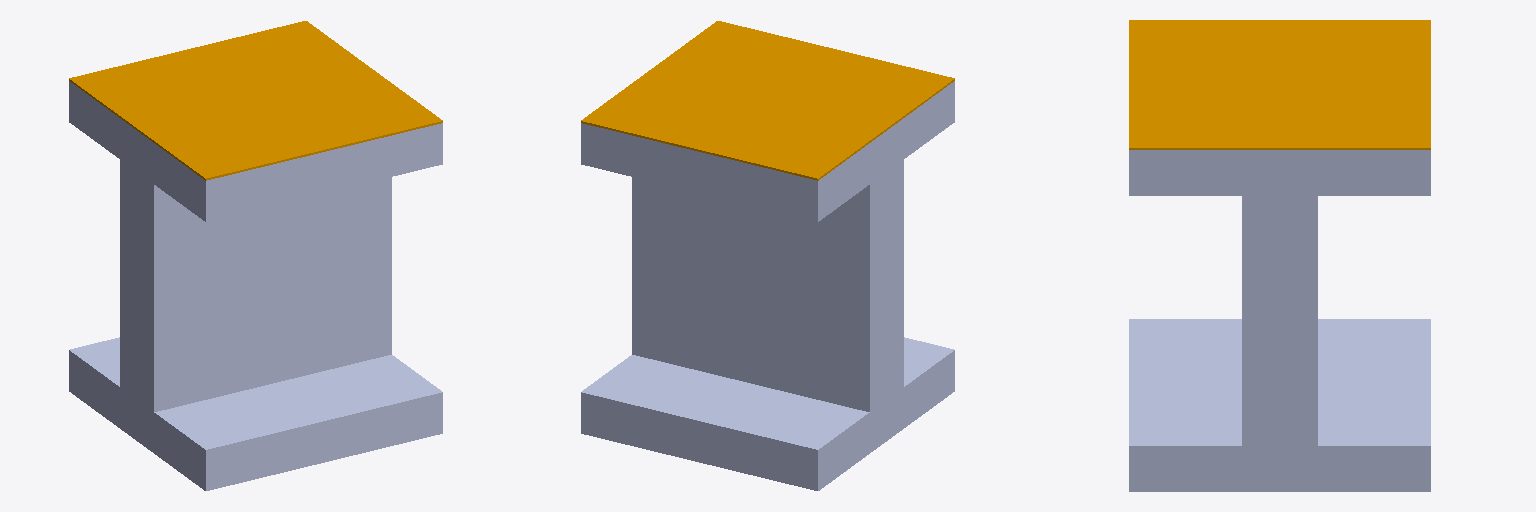
The robot description file, URDF, robot "cube_id_11":
<?xml version="1.0" encoding="utf-8"?>
<!-- This URDF was automatically created by SolidWorks to URDF Exporter! Originally created by Stephen Brawner (brawner@gmail.com) 
     Commit Version: 1.6.0-4-g7f85cfe  Build Version: 1.6.7995.38578
     For more information, please see http://wiki.ros.org/sw_urdf_exporter -->
<robot
  name="cube_id_11">
  <link
    name="marker_id_11">
    <inertial>
      <origin
        xyz="-5.2042E-18 0 -0.0005"
        rpy="0 0 0" />
      <mass
        value="0.0144" />
      <inertia
        ixx="1.7281E-05"
        ixy="9.035E-22"
        ixz="3.1546E-36"
        iyy="1.7281E-05"
        iyz="-6.0329E-20"
        izz="3.456E-05" />
    </inertial>
    <visual>
      <origin
        xyz="0 0 0"
        rpy="0 0 0" />
      <geometry>
        <mesh
          filename="package://robot_custom_description/models/markers/marker_11.dae" />
      </geometry>
    </visual>
  </link>
  <link
    name="cube_id_11/cube_link">
    <inertial>
      <origin
        xyz="-8.6736E-19 1.3878E-17 -1.0408E-17"
        rpy="0 0 0" />
      <mass
        value="0.02" />
      <inertia
        ixx="0.003573"
        ixy="1.6396E-19"
        ixz="-2.9204E-20"
        iyy="0.0040185"
        iyz="7.3352E-18"
        izz="0.0018873" />
    </inertial>
    <visual>
      <origin
        xyz="0 0 0"
        rpy="0 0 0" />
      <geometry>
        <mesh
          filename="package://robot_custom_description/models/cube_id_11/meshes/cube_link.STL" />
      </geometry>
      <material
        name="">
        <color
          rgba="0.79216 0.81961 0.93333 1" />
      </material>
    </visual>
    <collision>
      <origin
        xyz="0 0 0"
        rpy="0 0 0" />
      <geometry>
        <mesh
          filename="package://robot_custom_description/models/cube_id_11/meshes/cube_link.STL" />
      </geometry>
    </collision>
  </link>
  <joint
    name="cube_id_11/cube_joint"
    type="fixed">
    <origin
      xyz="0 0 -0.076"
      rpy="0 0 0" />
    <parent
      link="marker_id_11" />
    <child
      link="cube_id_11/cube_link" />
    <axis
      xyz="0 0 0" />
  </joint>
</robot>

--- Facts derived from the render (not from the file) ---
The picture shows the robot from 3 angles, left to right: view 1: azimuth 30°, elevation 25°; view 2: azimuth 150°, elevation 25°; view 3: azimuth 270°, elevation 25°; orthographic projection.
Robot: cube_id_11 — 2 links, 1 joints (1 fixed); root link marker_id_11; default pose: all joints at 0.
Links seen in each view (by area): view 1: cube_id_11/cube_link, marker_id_11; view 2: cube_id_11/cube_link, marker_id_11; view 3: cube_id_11/cube_link, marker_id_11.
Boxes of the visible links, x1,y1,x2,y2 form: cube_id_11/cube_link: (69,81,442,490); marker_id_11: (69,21,442,180); cube_id_11/cube_link: (581,81,954,490); marker_id_11: (581,21,954,180); cube_id_11/cube_link: (1129,150,1430,491); marker_id_11: (1129,20,1430,149).
Size in the robot's own frame: 0.12 by 0.12 by 0.151 metres.
2 mesh visuals loaded from 2 distinct referenced files (1 binary STL, 1 Collada DAE).
